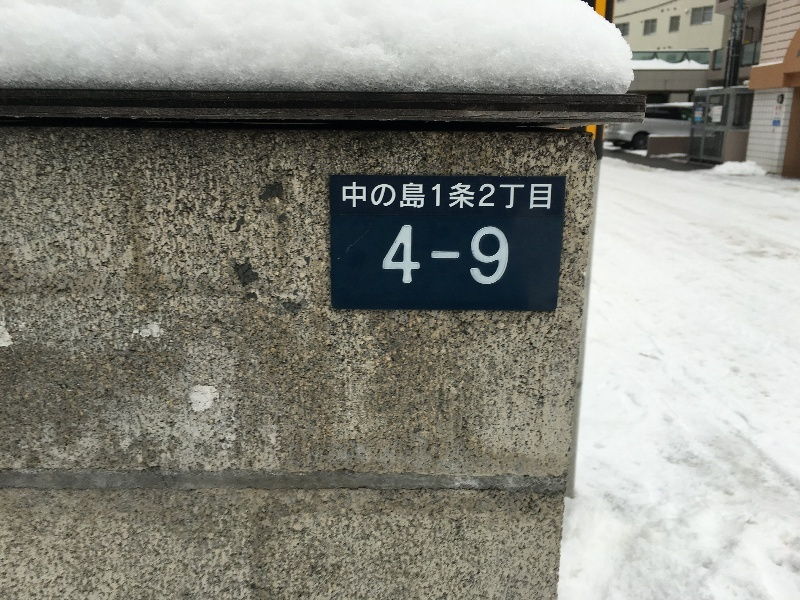text: (385, 225, 400, 287), (401, 225, 416, 287), (417, 225, 432, 287), (433, 225, 448, 287), (449, 225, 464, 287), (465, 225, 480, 287), (481, 225, 496, 287), (497, 225, 511, 287), (353, 182, 368, 212), (369, 182, 384, 212), (385, 182, 400, 212), (401, 182, 416, 212), (417, 182, 432, 212), (433, 182, 448, 212), (449, 182, 464, 212), (465, 182, 480, 212), (481, 182, 496, 212), (497, 182, 512, 212), (513, 182, 528, 212), (529, 182, 544, 212), (378, 225, 384, 287), (341, 182, 352, 212), (545, 182, 552, 212), (776, 105, 784, 115)
